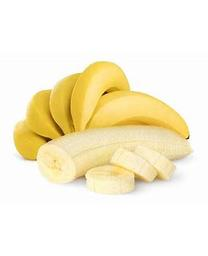banana: (12, 59, 191, 184)
